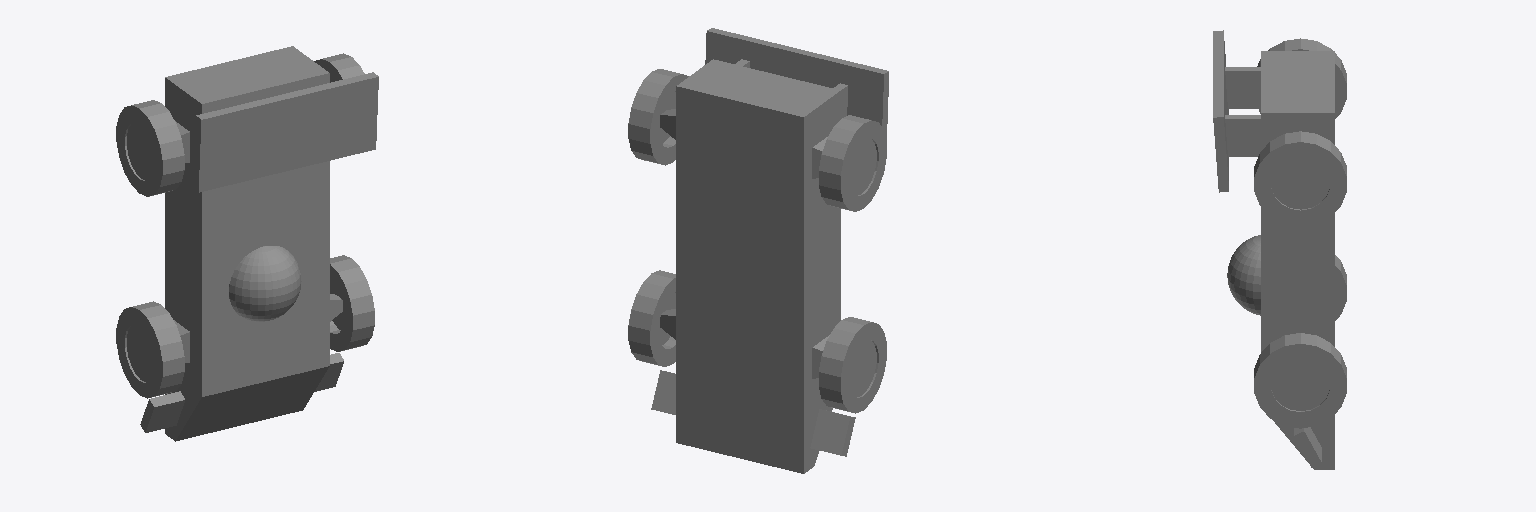
The model's file is raycar-unified.obj.
3 renders of one model, left to right at view 1: azimuth 30°, elevation 25°; view 2: azimuth 150°, elevation 25°; view 3: azimuth 270°, elevation 25°, orthographic.
Parts seen in each view (by area): view 1: Chassis, Wheel_RR, Wheel_FR, Wheel_FL, Wheel_RL; view 2: Chassis, Wheel_FR, Wheel_RR, Wheel_RL, Wheel_FL; view 3: Chassis, Wheel_RL, Wheel_FL, Wheel_RR, Wheel_FR.
Part boxes in pixels (bbox=[...]): Chassis: bbox=[140, 46, 378, 441]; Wheel_RR: bbox=[116, 100, 184, 196]; Wheel_FR: bbox=[116, 301, 184, 398]; Wheel_FL: bbox=[330, 255, 374, 351]; Wheel_RL: bbox=[314, 53, 364, 82]; Chassis: bbox=[651, 28, 888, 473]; Wheel_FR: bbox=[819, 317, 886, 413]; Wheel_RR: bbox=[819, 115, 886, 211]; Wheel_RL: bbox=[628, 69, 688, 165]; Wheel_FL: bbox=[628, 270, 675, 366]; Chassis: bbox=[1213, 30, 1334, 469]; Wheel_RL: bbox=[1254, 131, 1346, 226]; Wheel_FL: bbox=[1254, 333, 1346, 428]; Wheel_RR: bbox=[1257, 38, 1346, 118]; Wheel_FR: bbox=[1335, 255, 1346, 320].
Size of the model in its own units: 120 by 197 by 65.22.